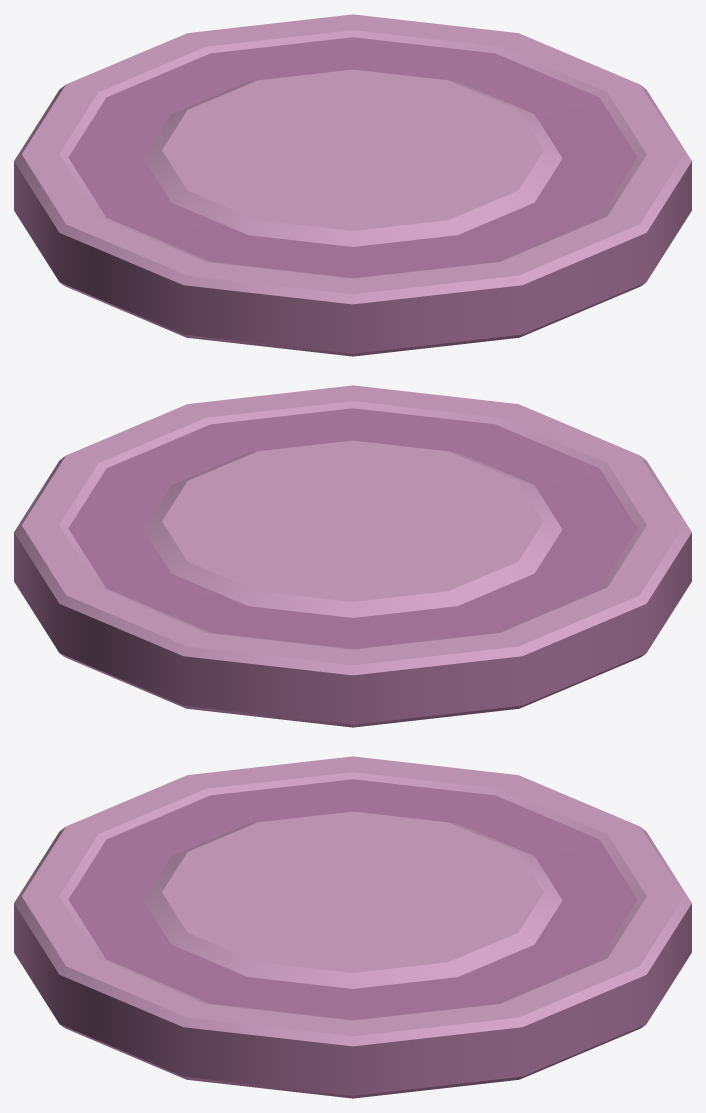
File: JarLid.fbx
3 renders of one model, top to bottom at view 1: azimuth 30°, elevation 25°; view 2: azimuth 150°, elevation 25°; view 3: azimuth 270°, elevation 25°, orthographic.
Visible parts, largest first — view 1: JarLid; view 2: JarLid; view 3: JarLid.
Part boxes in pixels (x1,y1,x2,y2): JarLid: (14,14,691,356); JarLid: (14,385,691,727); JarLid: (14,756,691,1098).
Size of the model in its own units: 2.26 by 0.2417 by 2.26.
